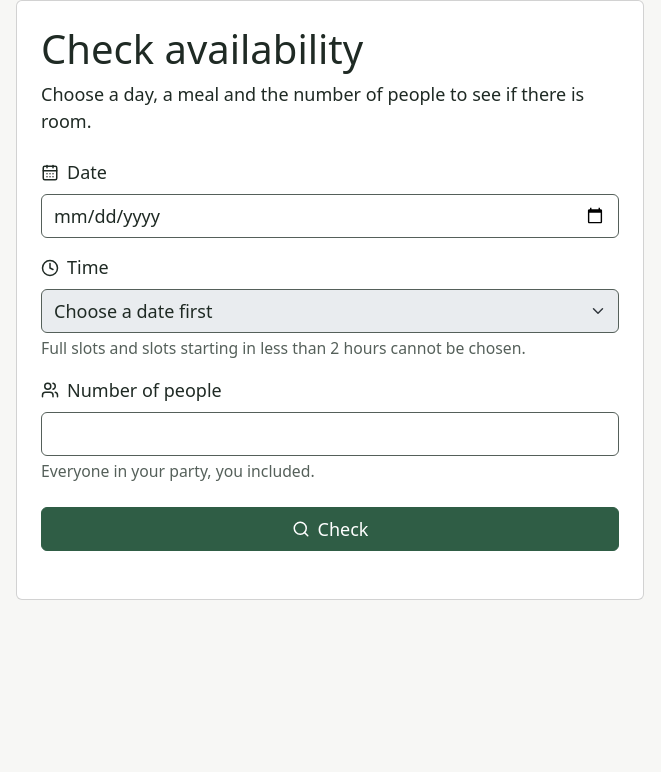
Test: CheckAvailabilityPage – edge cases › shows the answer without the slot line when the slot list cannot be read at check time
The width and height of the screenshot is (661, 772).
Type "2026-11-03" into the date field labelled "Date" at (330, 216), box x1=41 y1=194 x2=619 y2=238
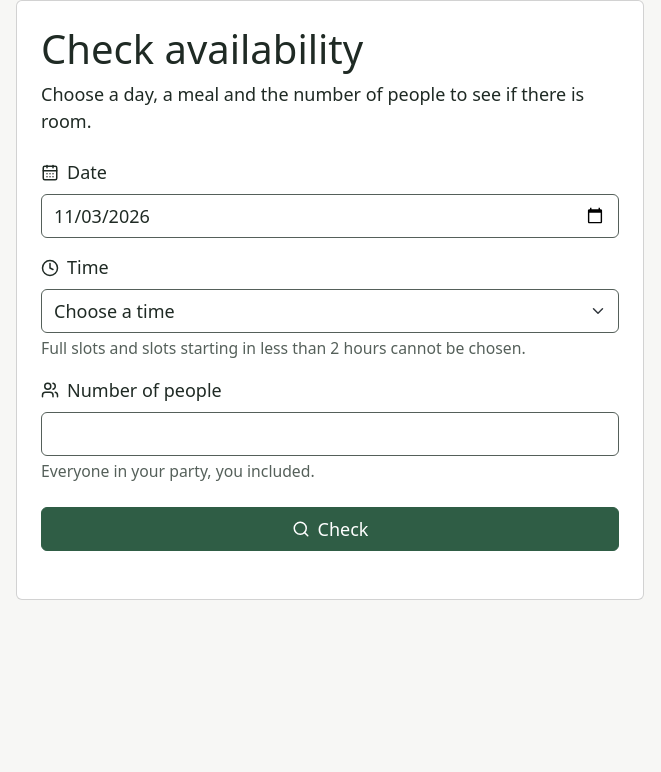
Check: the dropdown labelled "Time" is enabled
Select "Dinner, 19:00 – 20:30" in the dropdown labelled "Time" at (330, 311), box x1=41 y1=289 x2=619 y2=333
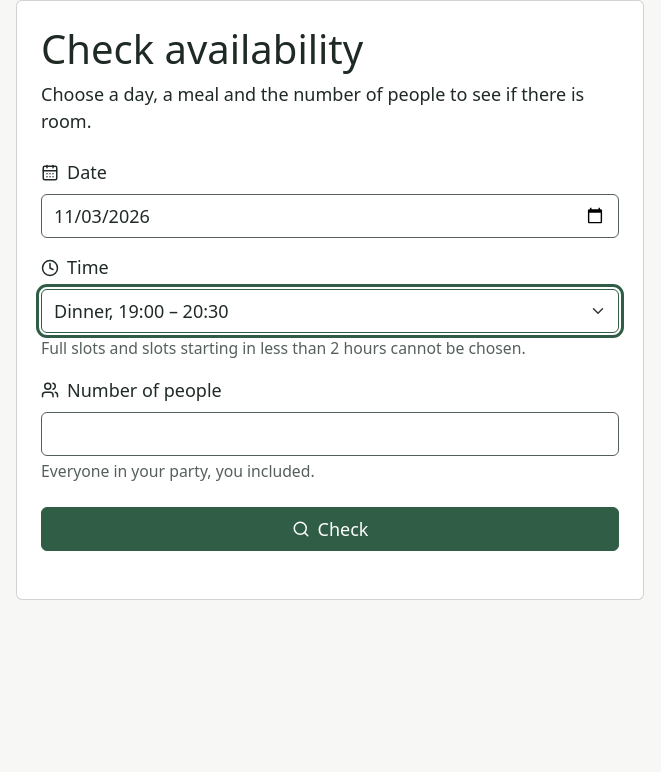
Type "4" into the number field labelled "Number of people" at (330, 434), box x1=41 y1=412 x2=619 y2=456
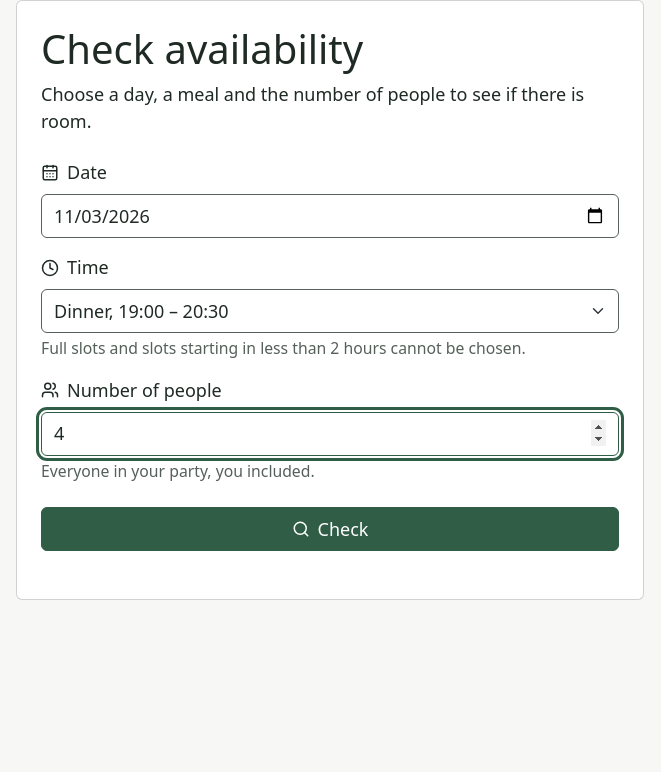
Click the button "Check" at (330, 529), box x1=41 y1=507 x2=619 y2=551
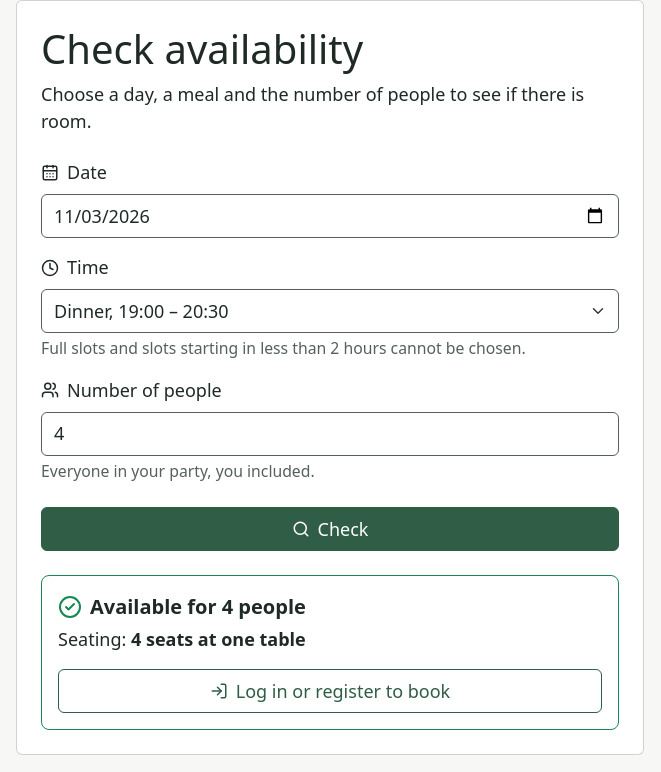
Check: the message does not show "Dinner", box x1=58 y1=593 x2=306 y2=651
Check: the message shows "Available for 4 people", box x1=58 y1=593 x2=306 y2=651
